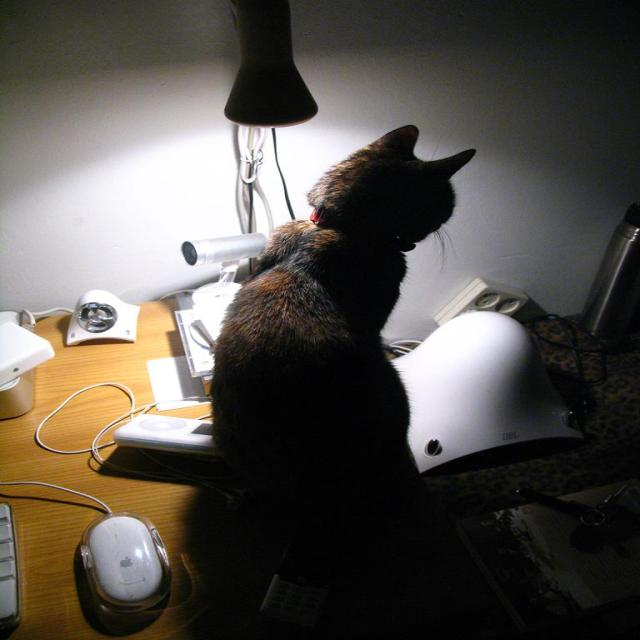Cat: (215, 122, 475, 584)
